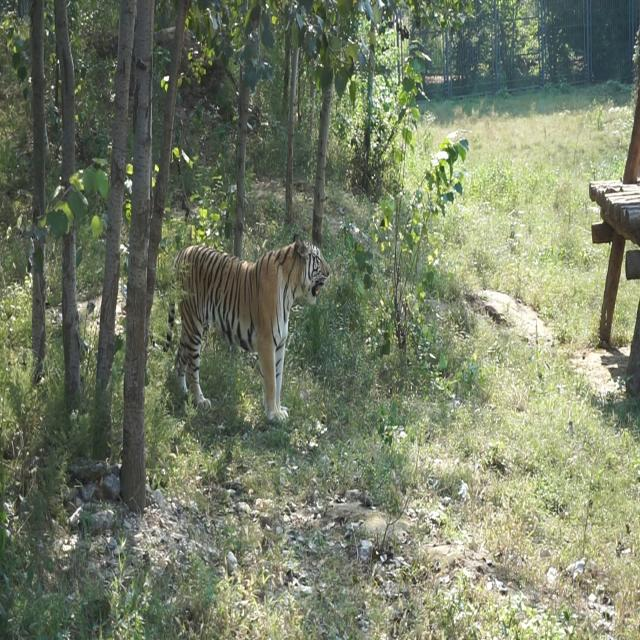Tiger: (158, 217, 338, 443)
